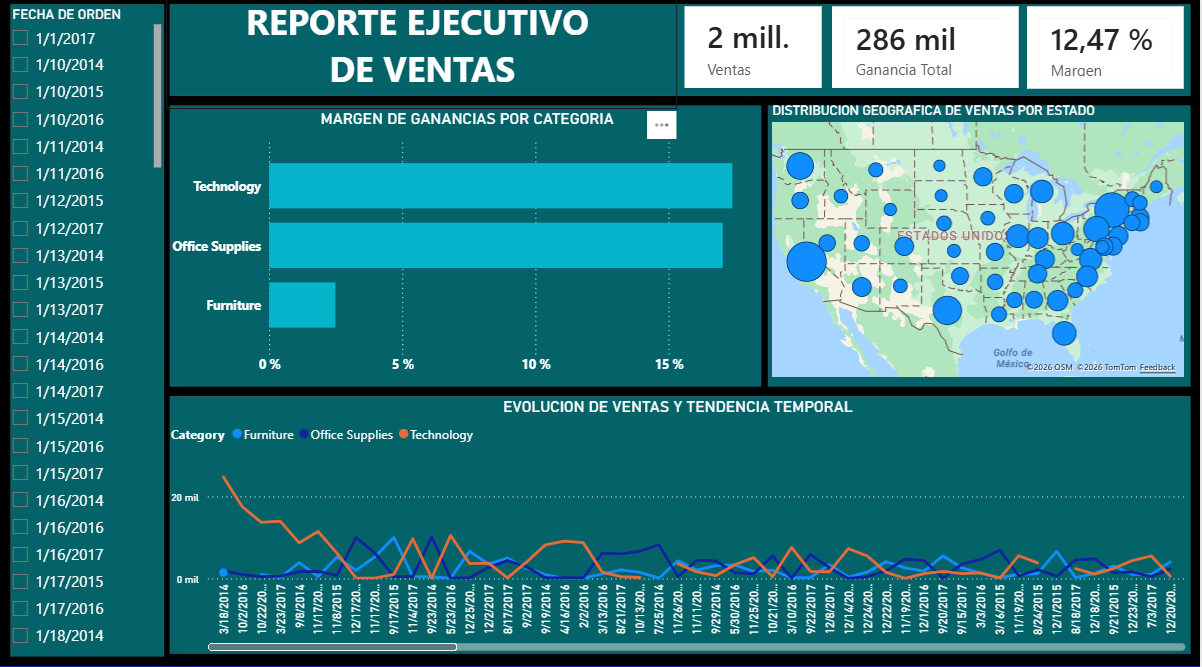

This screenshot's page, from the dashboard's own definition file:
{"tool":"powerbi","page":{"name":"Página 1","canvas":[1280,720],"ordinal":0},"visuals":[{"type":"cardVisual","fields":{"Data":["Sum(Sample - Superstore.Sales)"]},"box":[725.9,9.6,156.4,97.4],"z":0},{"type":"cardVisual","fields":{"Data":["Sum(Sample - Superstore.Profit)"]},"box":[882.3,9.6,209.9,97.4],"z":1000},{"type":"cardVisual","fields":{"Data":["Sample - Superstore.Margen"]},"box":[1090.6,9.4,177.6,98.8],"z":2000},{"type":"clusteredBarChart","title":"MARGEN DE GANANCIAS POR CATEGORIA","fields":{"Category":["Sample - Superstore.Category"],"Y":["Sample - Superstore.Margen"]},"box":[177,123.5,642.2,292.3],"z":3000},{"type":"slicer","fields":{"Values":["Sample - Superstore.Order Date"]},"box":[0,9.6,177,697.1],"z":4000},{"type":"azureMap","title":"DISTRIBUCION GEOGRAFICA DE VENTAS POR ESTADO","fields":{"Category":["Sample - Superstore.State"],"Size":["Sum(Sample - Superstore.Sales)"]},"box":[819.2,116.6,450.1,299.1],"z":5000},{"type":"lineChart","title":"EVOLUCION DE VENTAS Y TENDENCIA TEMPORAL","fields":{"Category":["Sample - Superstore.Order Date"],"Y":["Sum(Sample - Superstore.Sales)"],"Series":["Sample - Superstore.Category"]},"box":[177,430.9,1092.3,275.8],"z":6000},{"type":"textbox","box":[177,0,546.1,123.5],"z":7000}]}

Visuals, with their boxes in screenshot pixels (x1, y1, x2, y2), scaled from the page's 1280x720 canvas onto the 1202x667 screenshot:
cardVisual - Sum(Sample - Superstore.Sales): 682,9,829,99
cardVisual - Sum(Sample - Superstore.Profit): 829,9,1026,99
cardVisual - Sample - Superstore.Margen: 1024,9,1191,100
"MARGEN DE GANANCIAS POR CATEGORIA" clusteredBarChart: 166,114,769,385
slicer - Sample - Superstore.Order Date: 0,9,166,655
"DISTRIBUCION GEOGRAFICA DE VENTAS POR ESTADO" azureMap: 769,108,1192,385
"EVOLUCION DE VENTAS Y TENDENCIA TEMPORAL" lineChart: 166,399,1192,655
textbox: 166,0,679,114
